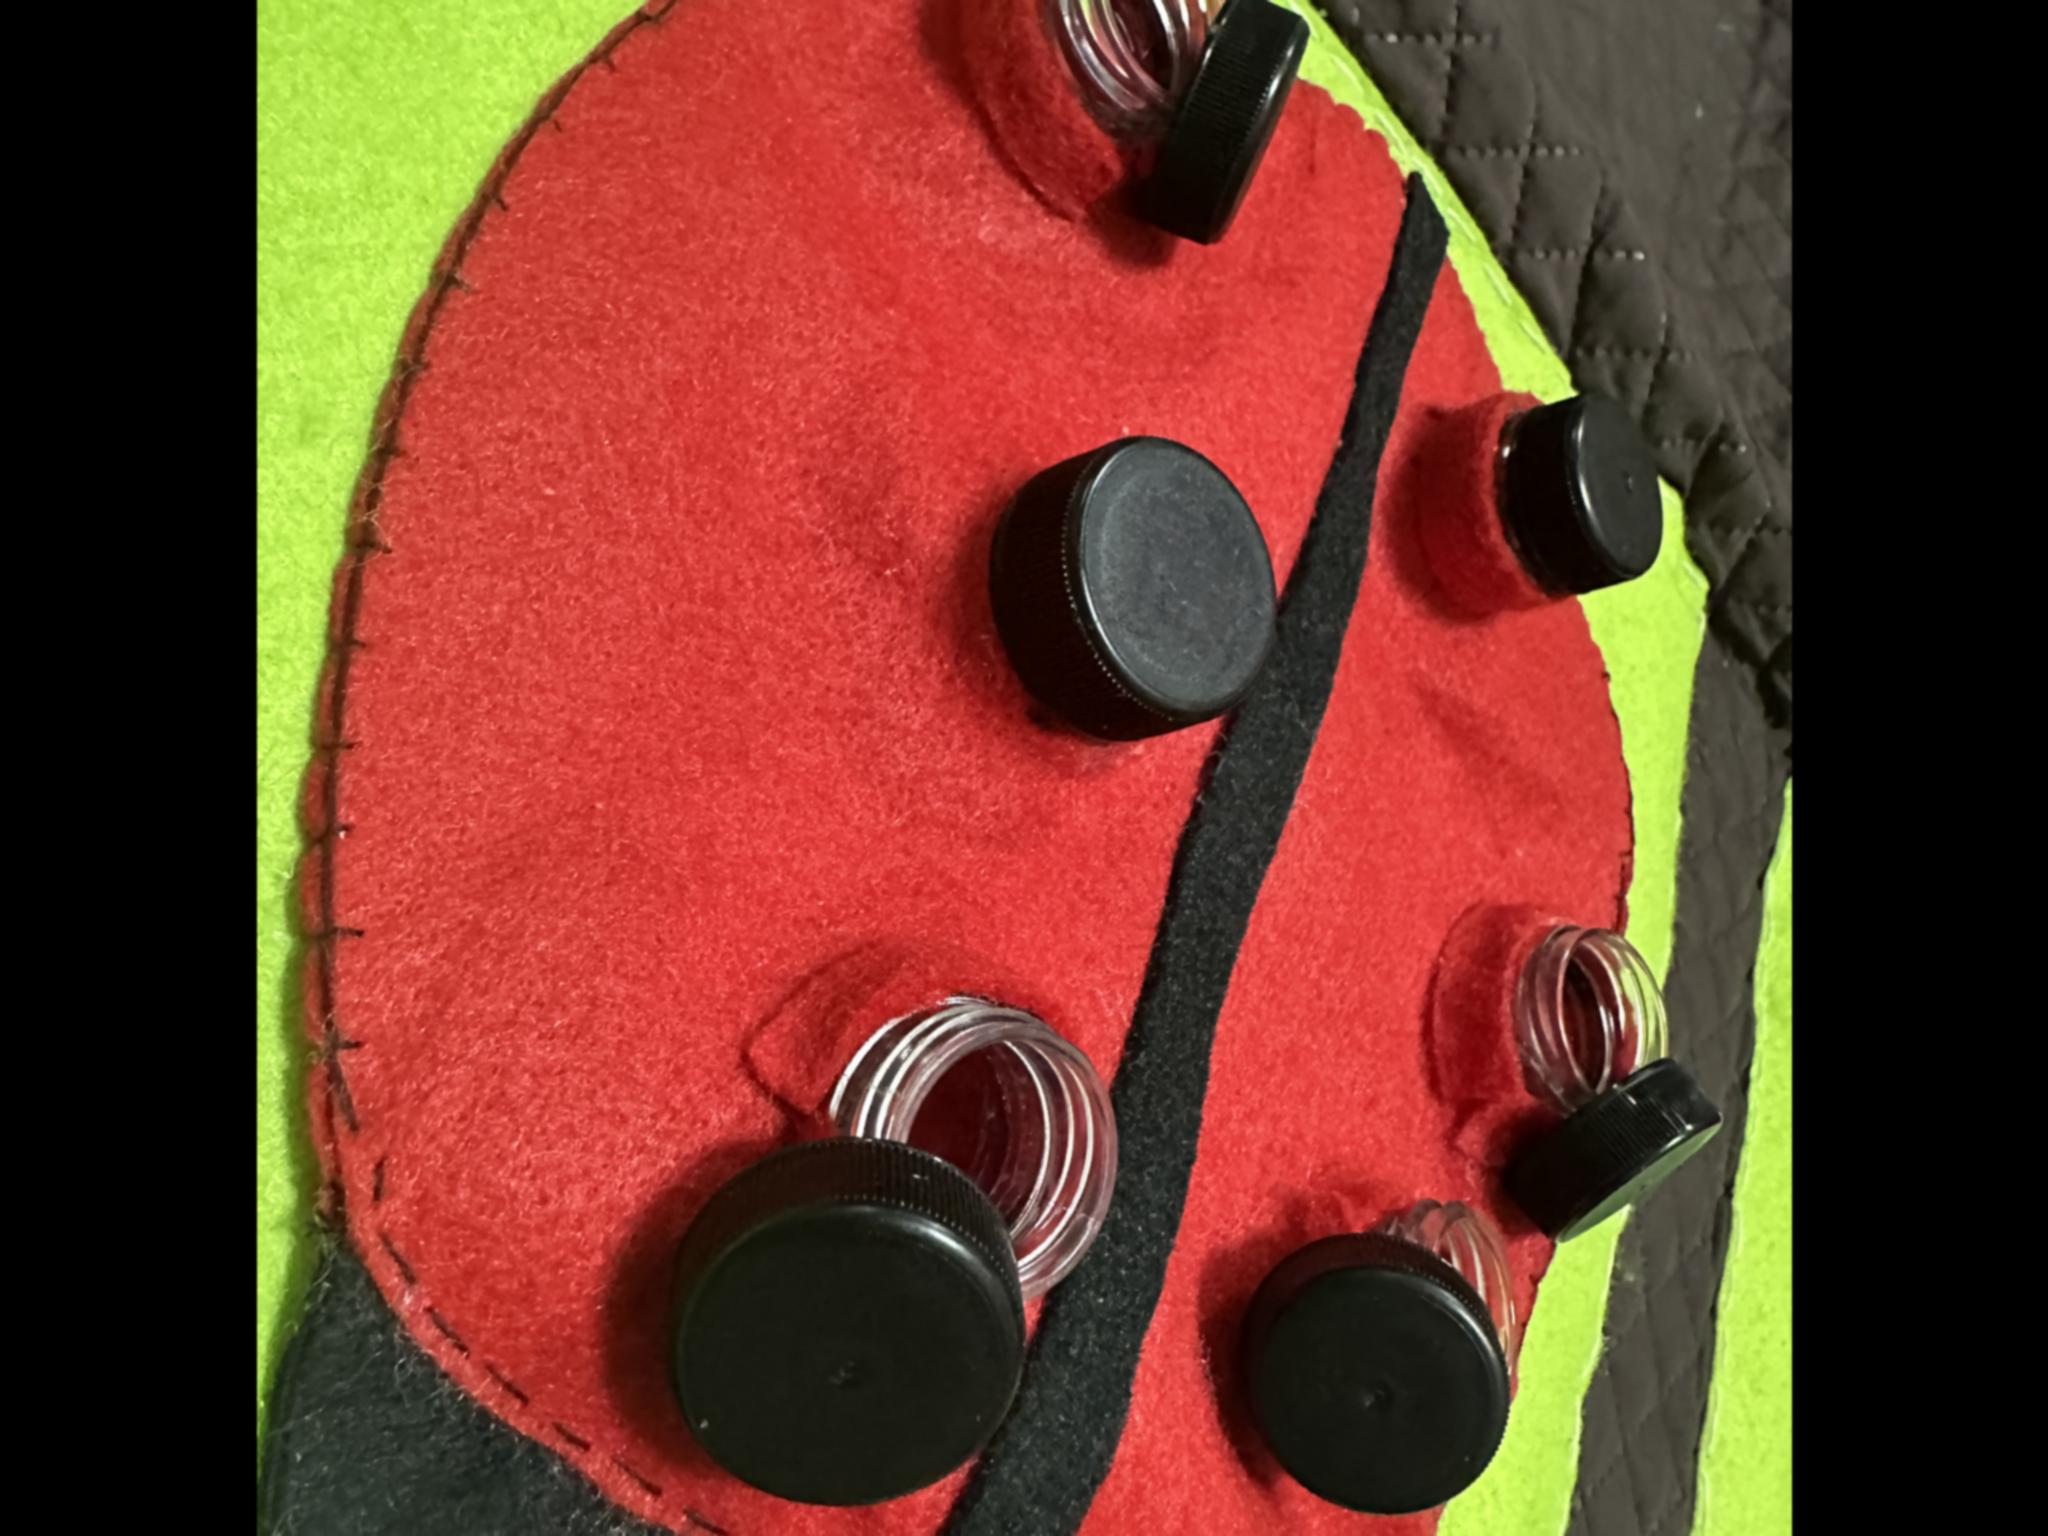cap_ng: (637, 984, 1129, 1512), (1208, 1197, 1537, 1513), (1430, 897, 1730, 1242), (942, 0, 1316, 247)
cap_ok: (948, 424, 1292, 771), (1371, 379, 1669, 657)
